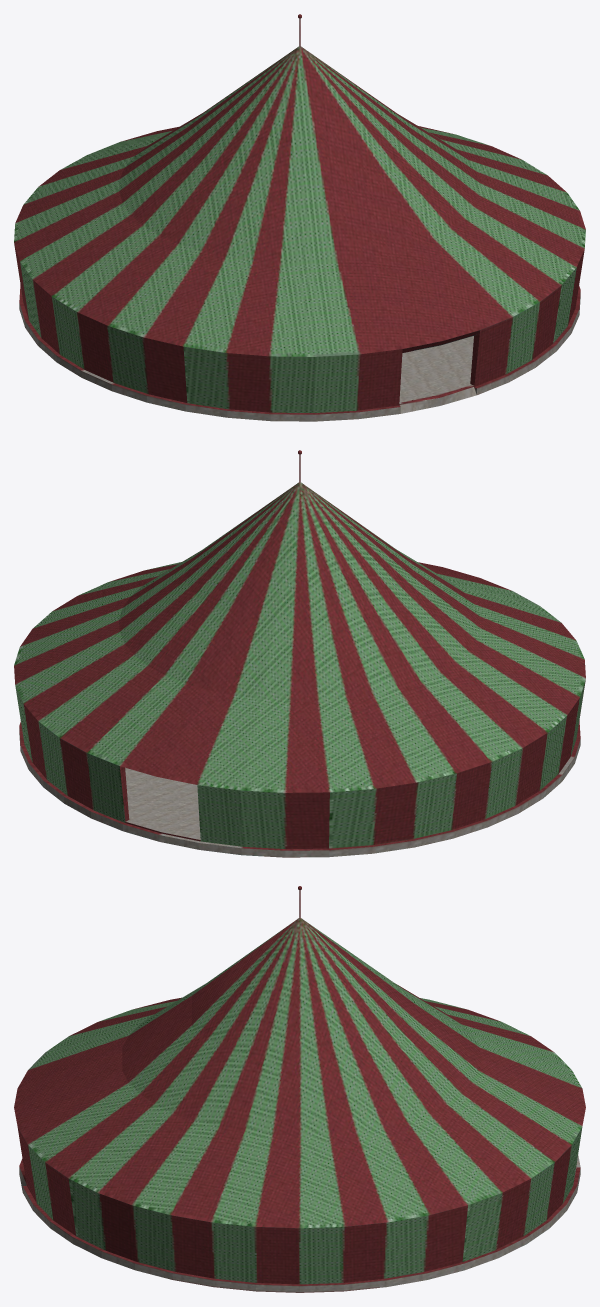
File: Carpa.glb
3 renders of one model, top to bottom at view 1: azimuth 30°, elevation 25°; view 2: azimuth 150°, elevation 25°; view 3: azimuth 270°, elevation 25°, orthographic.
Visible parts, largest first — view 1: circo_Mesh; view 2: circo_Mesh; view 3: circo_Mesh.
Part boxes in pixels (x1,y1,x2,y2): circo_Mesh: [14, 14, 585, 421]; circo_Mesh: [14, 450, 585, 857]; circo_Mesh: [14, 886, 585, 1292].
Size of the model in its own units: 31.01 by 17.24 by 31.01.
Materials: 1 (1 with a texture image).
